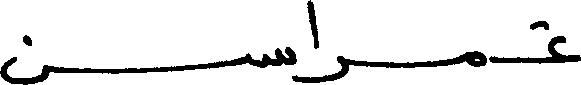X: (0, 30, 47, 84), (247, 42, 295, 84), (548, 19, 580, 67), (306, 0, 317, 84), (319, 51, 347, 84), (467, 46, 486, 71)
